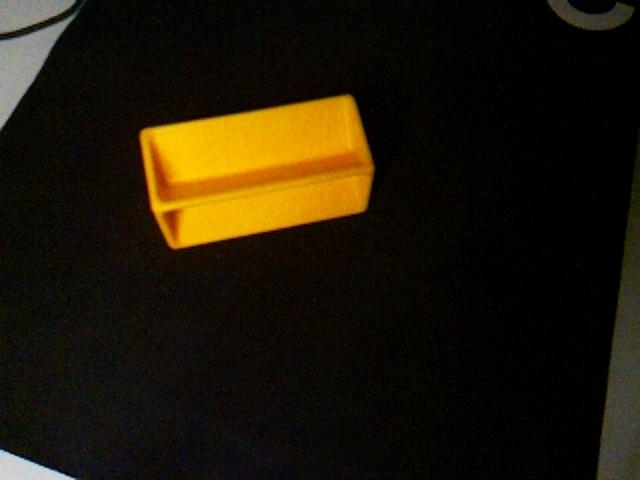yellow: (138, 92, 376, 251)
